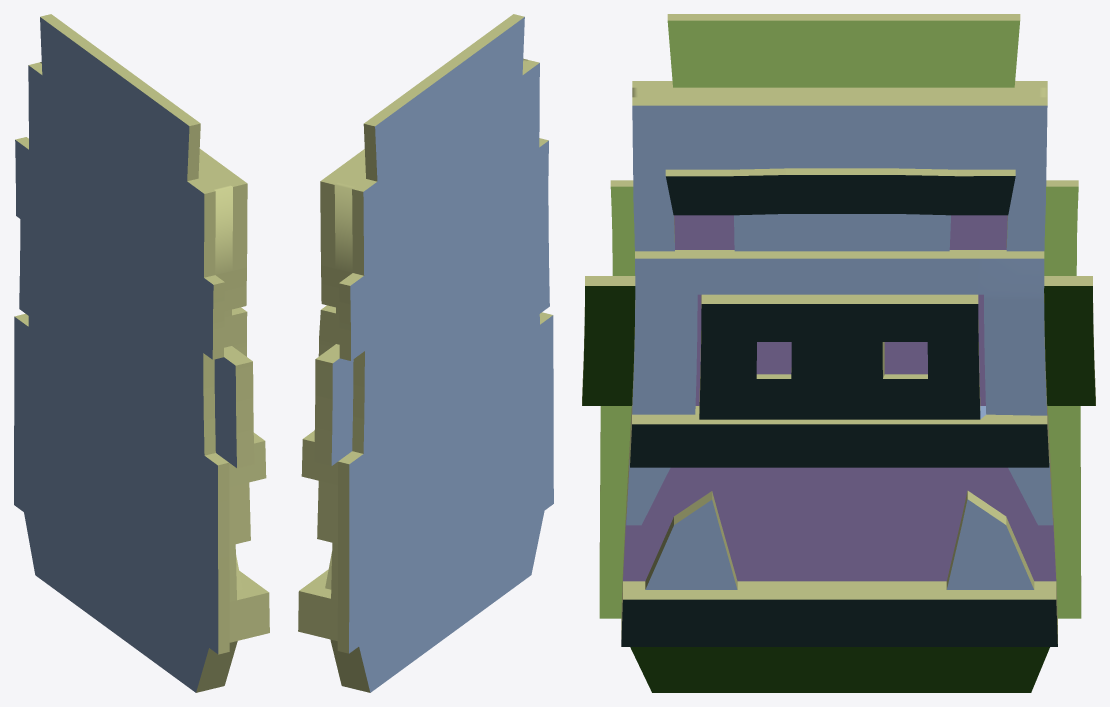
File: pattternwallotro.fbx
The picture shows the model from 3 angles, left to right: view 1: azimuth 30°, elevation 25°; view 2: azimuth 150°, elevation 25°; view 3: azimuth 270°, elevation 25°; orthographic projection. The views are drawn at different scales.
Visible parts, largest first — view 1: Box003; view 2: Box003; view 3: Box003.
Part boxes in pixels (x1,y1,x2,y2): Box003: [14, 14, 269, 692]; Box003: [298, 14, 553, 692]; Box003: [582, 14, 1095, 692].
Size of the model in its own units: 16.5 by 146 by 102.
